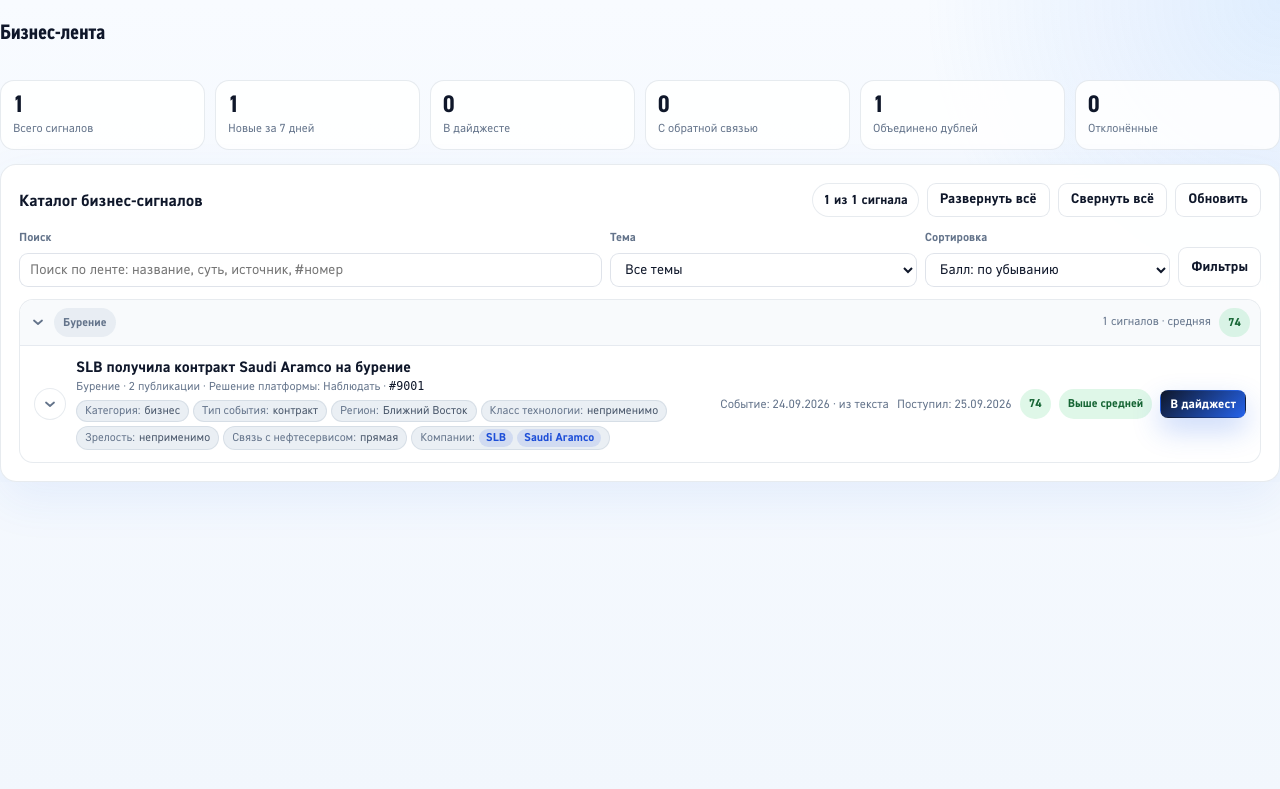
Scenario: бизнес-лента › экран радара в витрине «бизнес»: карточка события, публикации снизу, «в дайджест» и ОС, как на радаре
Expected: the heading "Бизнес-лента" is shown, [0,17,105,49]
Expected: the text "Бурение · 2 публикации · Решение платформы: Наблюдать ·" is shown, [76,379,389,394]
What coordinates should you click on to do the following:
click the button named "Раскрыть сигнал"
I would click on:
 (50, 404)
Its box is [34,388,66,420].
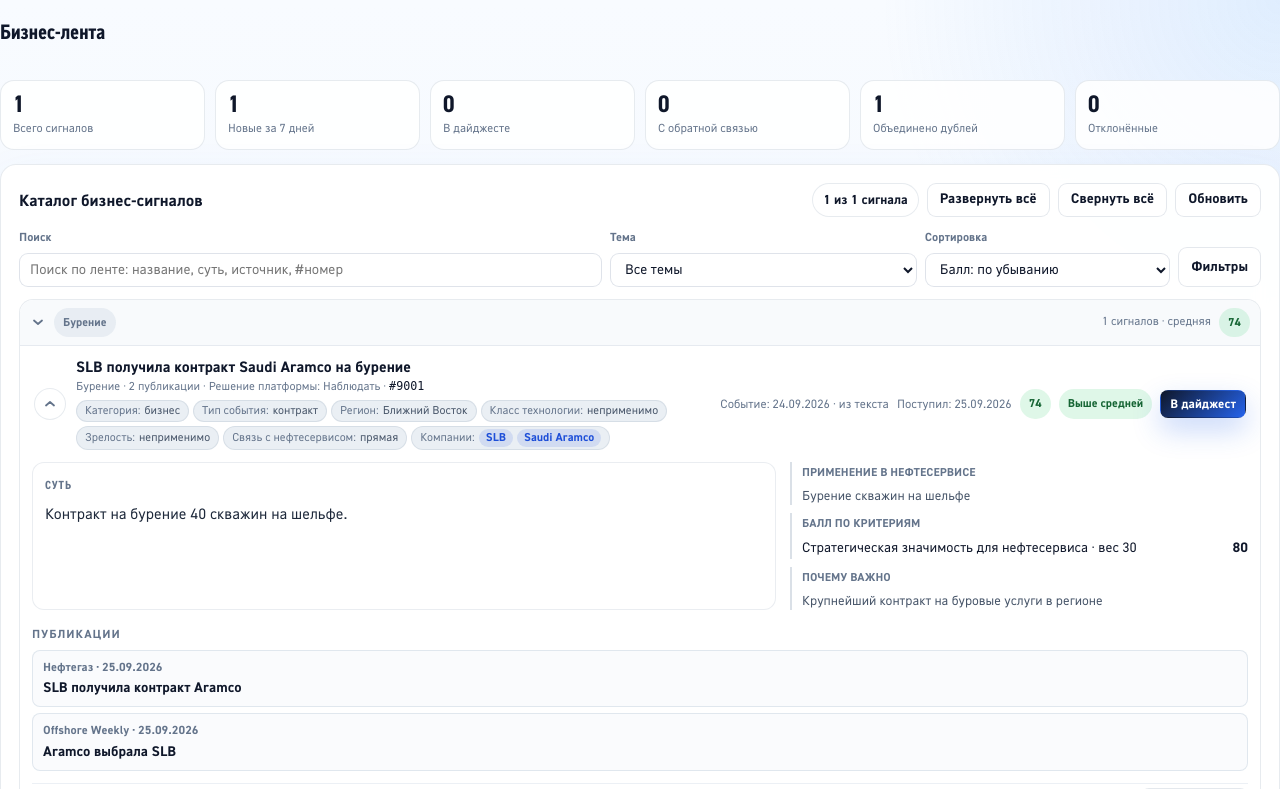
Expected: the text "Контракт на бурение 40 скважин на шельфе." is shown, [45,505,348,524]
Expected: the text "Почему важно" is shown, [802,570,891,585]
Expected: the text "Крупнейший контракт на буровые услуги в регионе" is shown, [802,592,1103,609]
